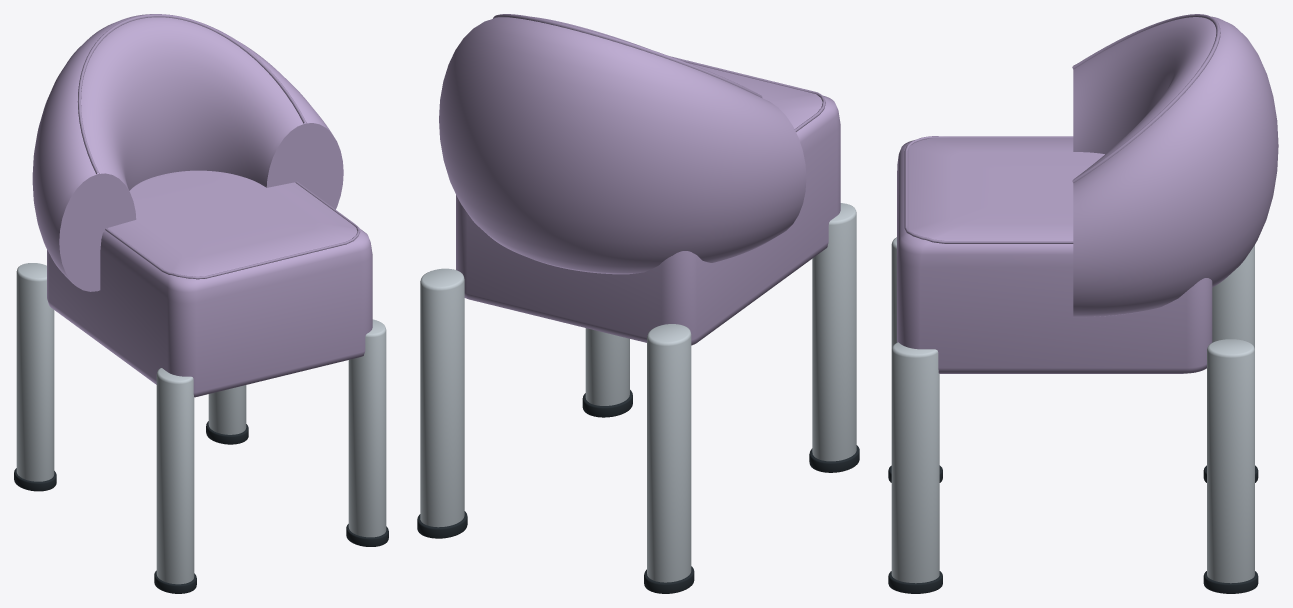
The model's file is kids-shell-chair.glb.
3 views of the same model, side by side, from view 1: azimuth 30°, elevation 25°; view 2: azimuth 150°, elevation 25°; view 3: azimuth 270°, elevation 25° (orthographic). The views are drawn at different scales.
Visible parts, largest first — view 1: catalog_surface_RealismUV, catalog_surface_UVMap; view 2: catalog_surface_RealismUV, catalog_surface_UVMap; view 3: catalog_surface_RealismUV, catalog_surface_UVMap.
Boxes of the visible parts, x1,y1,x2,y2 form: catalog_surface_RealismUV: (16, 14, 386, 584); catalog_surface_UVMap: (14, 421, 388, 593); catalog_surface_RealismUV: (420, 14, 856, 582); catalog_surface_UVMap: (417, 390, 859, 593); catalog_surface_RealismUV: (891, 14, 1278, 583); catalog_surface_UVMap: (888, 465, 1258, 593).
Bounding box in the file's own units: 0.36 × 0.54 × 0.38.
